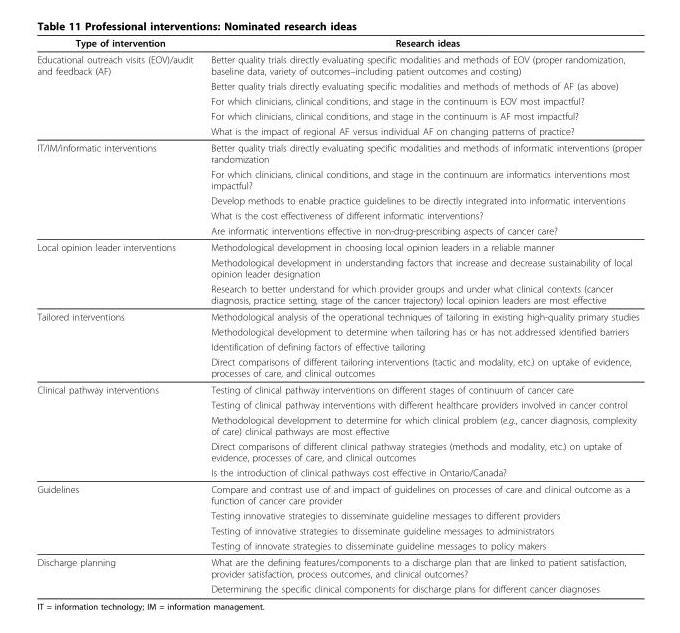table: (36, 36, 640, 593)
table column: (201, 36, 640, 593), (36, 36, 201, 593)
table column header: (36, 36, 640, 50)
table row: (36, 50, 640, 78), (36, 280, 640, 308), (36, 353, 640, 381), (36, 139, 640, 166), (36, 480, 640, 507), (36, 553, 640, 580), (36, 166, 640, 192), (36, 254, 640, 280), (36, 412, 640, 438), (36, 438, 640, 464), (36, 123, 640, 139), (36, 222, 640, 238), (36, 238, 640, 254), (36, 396, 640, 412), (36, 464, 640, 480), (36, 537, 640, 553), (36, 78, 640, 93), (36, 93, 640, 108), (36, 108, 640, 123), (36, 192, 640, 207), (36, 207, 640, 222), (36, 308, 640, 323), (36, 323, 640, 338), (36, 338, 640, 353), (36, 381, 640, 396), (36, 507, 640, 522), (36, 522, 640, 537), (36, 36, 640, 50), (36, 580, 640, 593)
table spanning cell: (36, 139, 201, 238), (36, 381, 201, 480), (36, 50, 201, 139), (36, 308, 201, 381), (36, 480, 201, 553), (36, 238, 201, 308), (36, 553, 201, 593)
